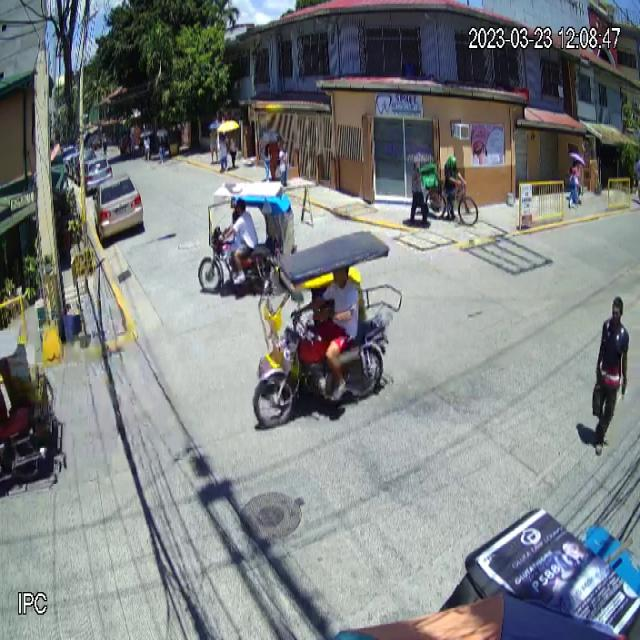Tricycle: (250, 227, 403, 427), (196, 178, 306, 300)
